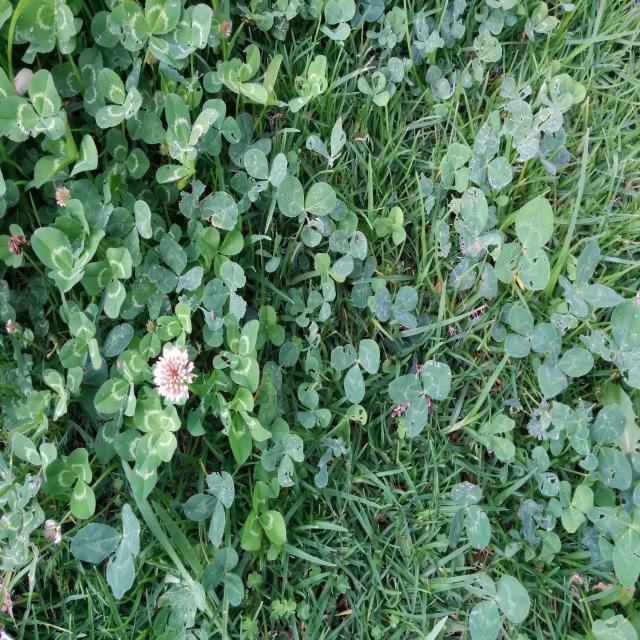Four Leaf Clover: (132, 398, 181, 473)
